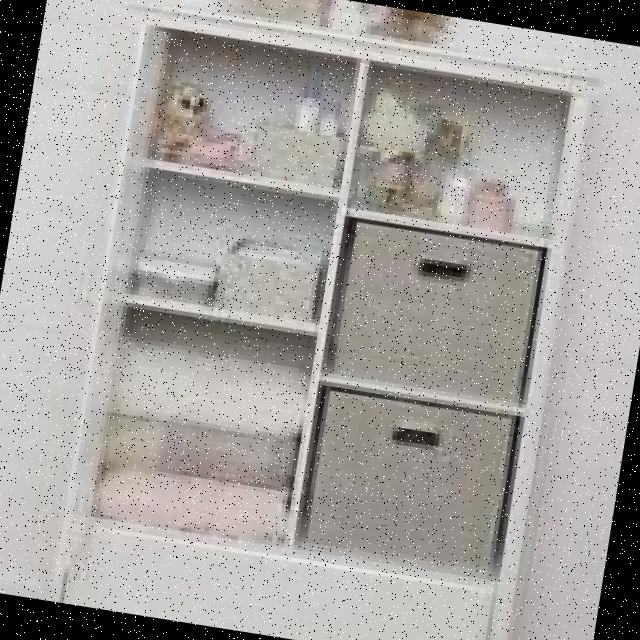Closet: (27, 0, 613, 640)
